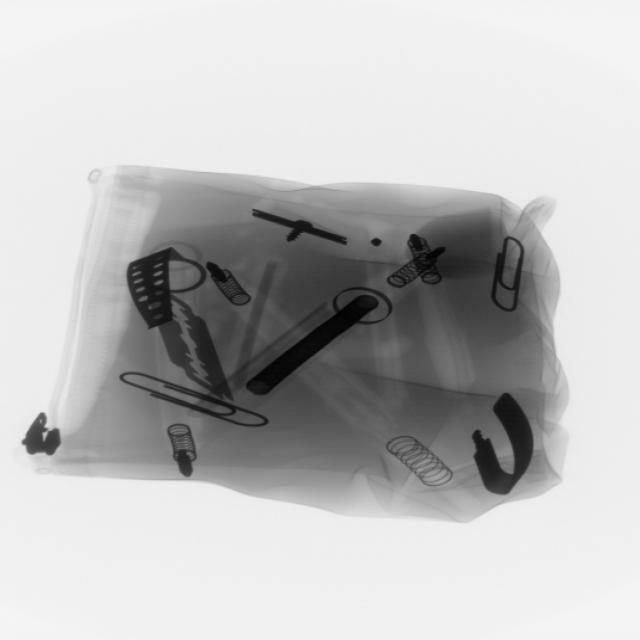BLADE: (156, 295, 235, 409)
